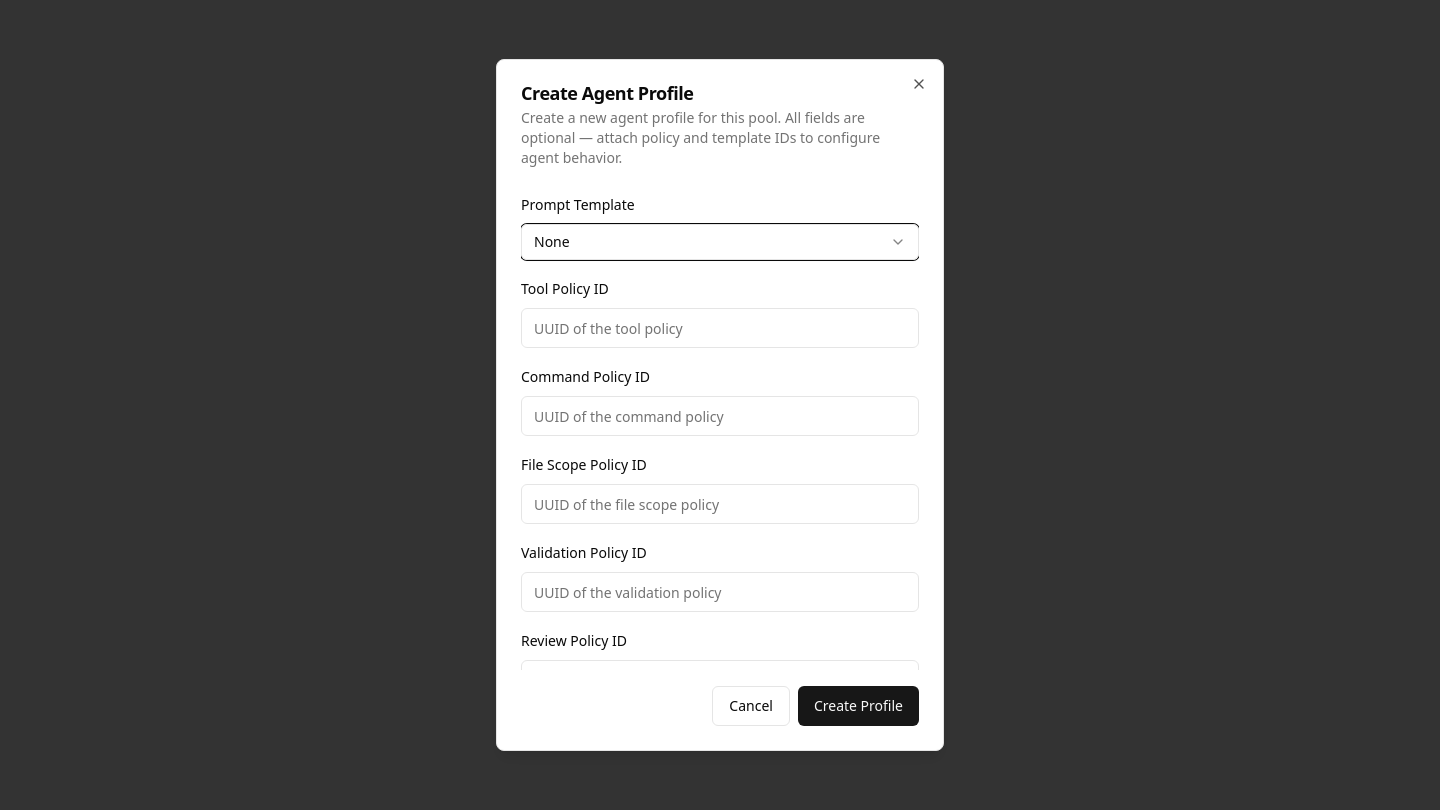
CreateProfileDialog › displays API error and keeps dialog open on failure
Type "bad-id" into the field with test id "create-profile-toolPolicyId" at (720, 328), box [521,308,919,348]
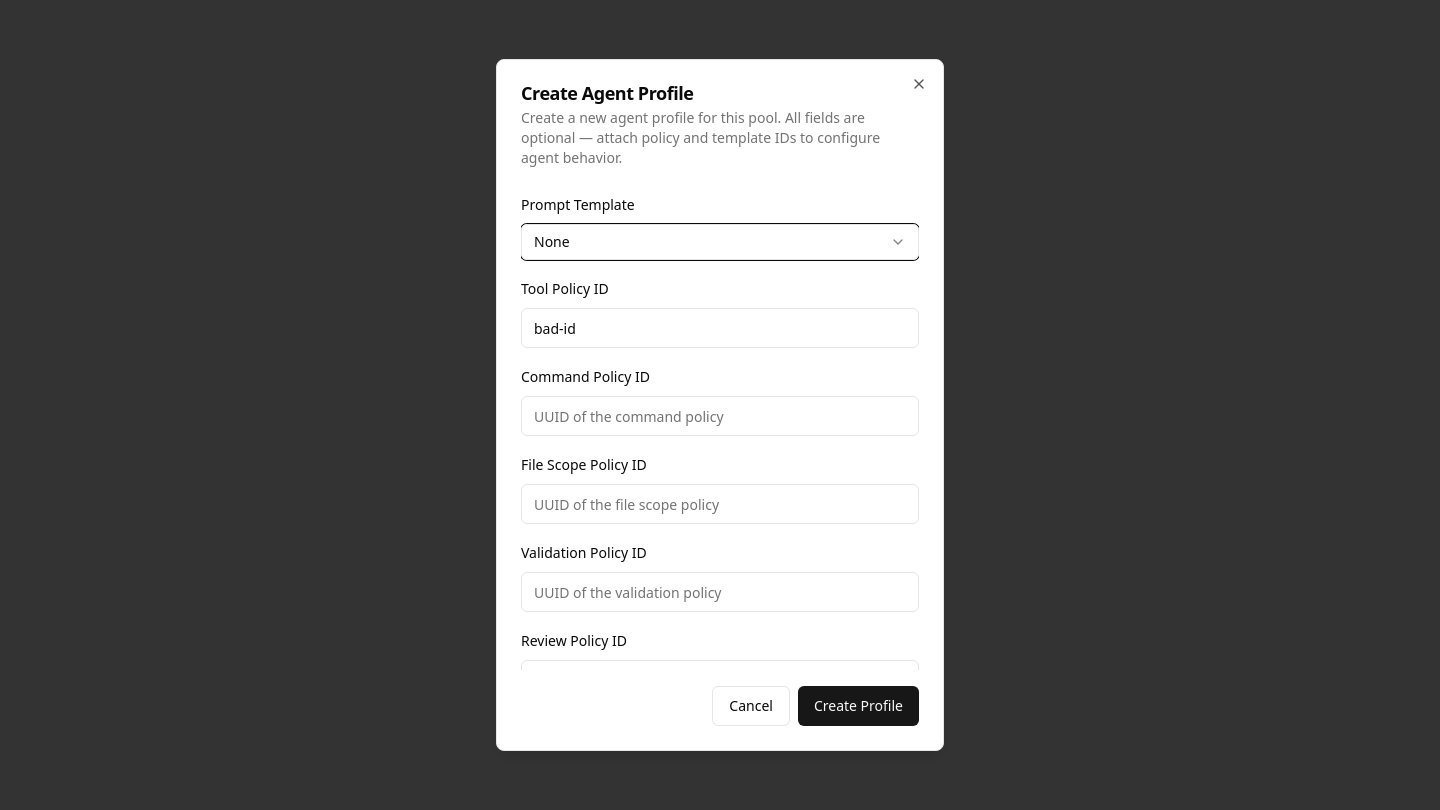
Click the button with test id "create-profile-submit" at (858, 706), box [798,686,919,726]
(page scrolled)
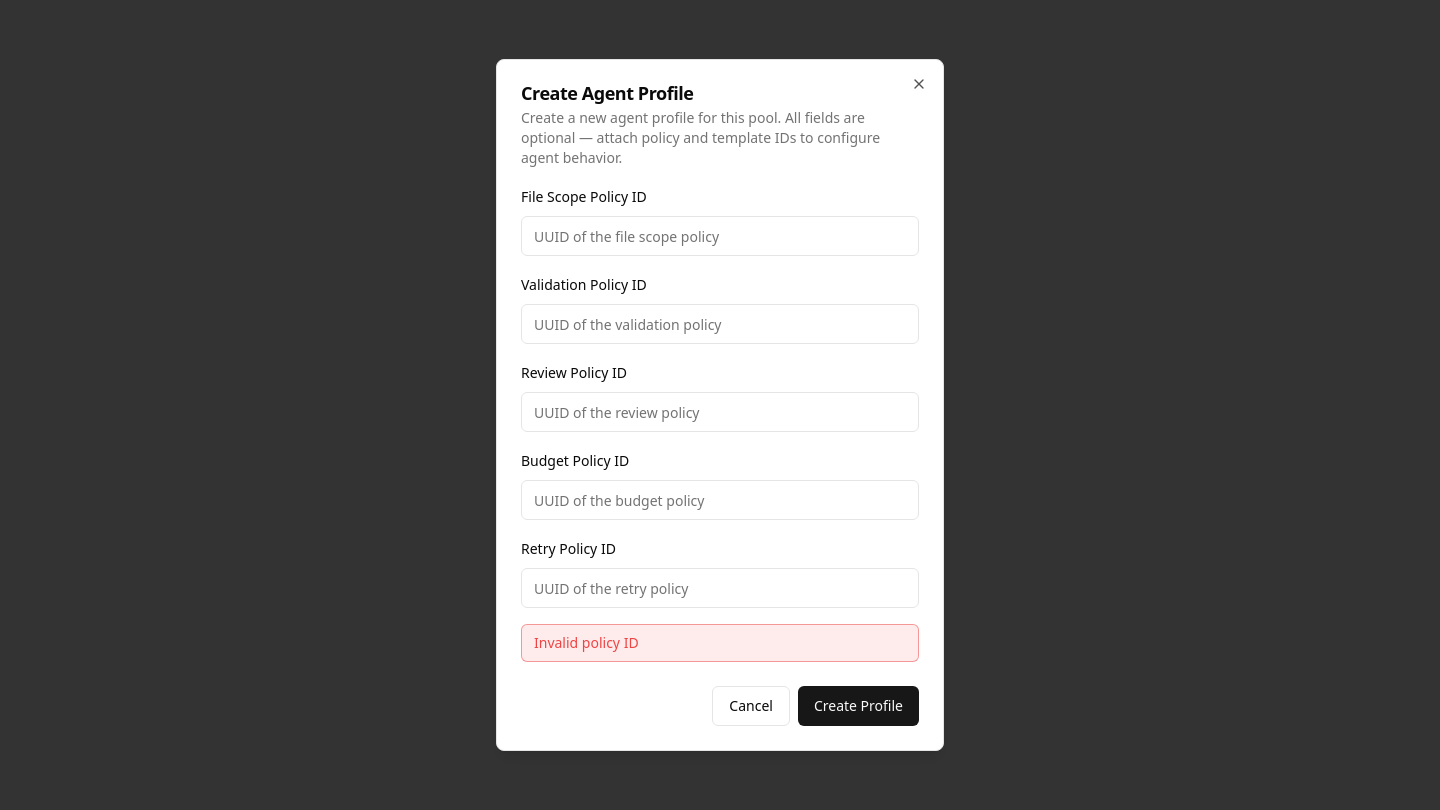
Expected: the message "Invalid policy ID" is shown, [521,624,919,662]
